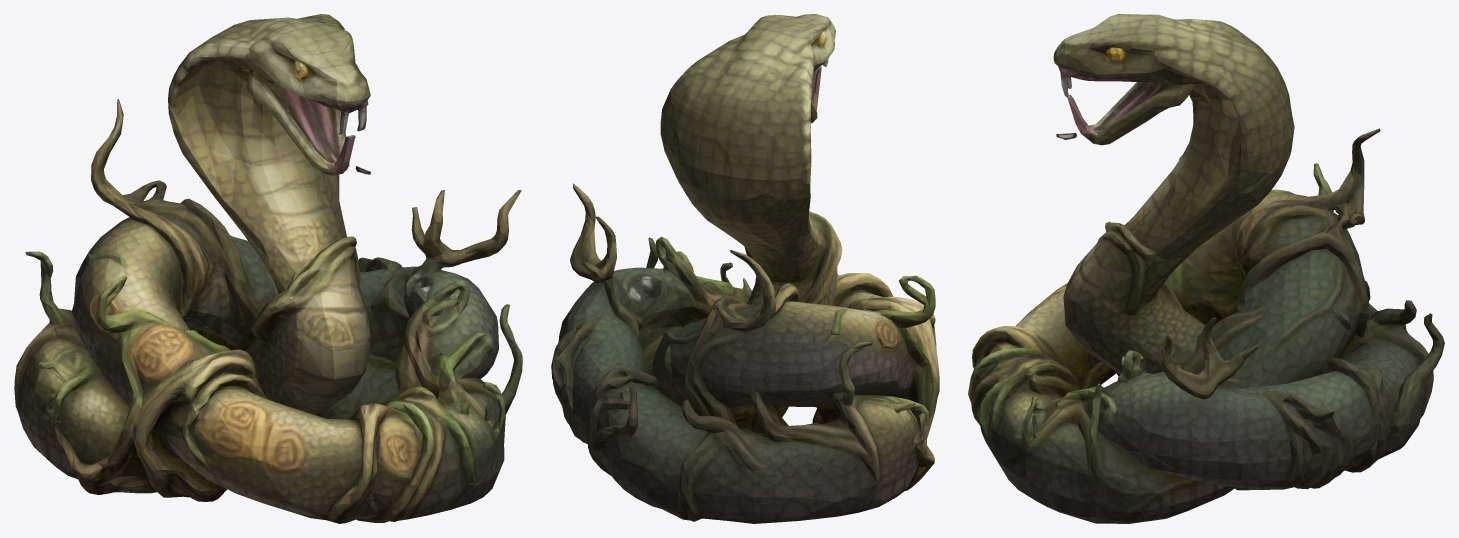
Rendered from stranglerNaga.glb.
3 views of the same model, side by side, from view 1: azimuth 30°, elevation 25°; view 2: azimuth 150°, elevation 25°; view 3: azimuth 270°, elevation 25° (orthographic). The views are drawn at different scales.
Visible parts, largest first — view 1: world; view 2: world; view 3: world.
Boxes of the visible parts, box(x1,y1,x2,y2) form: world: box(14, 14, 522, 523); world: box(551, 14, 939, 523); world: box(968, 14, 1444, 523).
Size of the model in its own units: 0.7379 by 0.7471 by 0.7464.
1 material, 1 textured.
